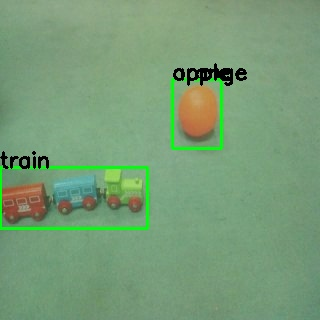orange: (175, 81, 222, 143)
train: (1, 163, 147, 226)
